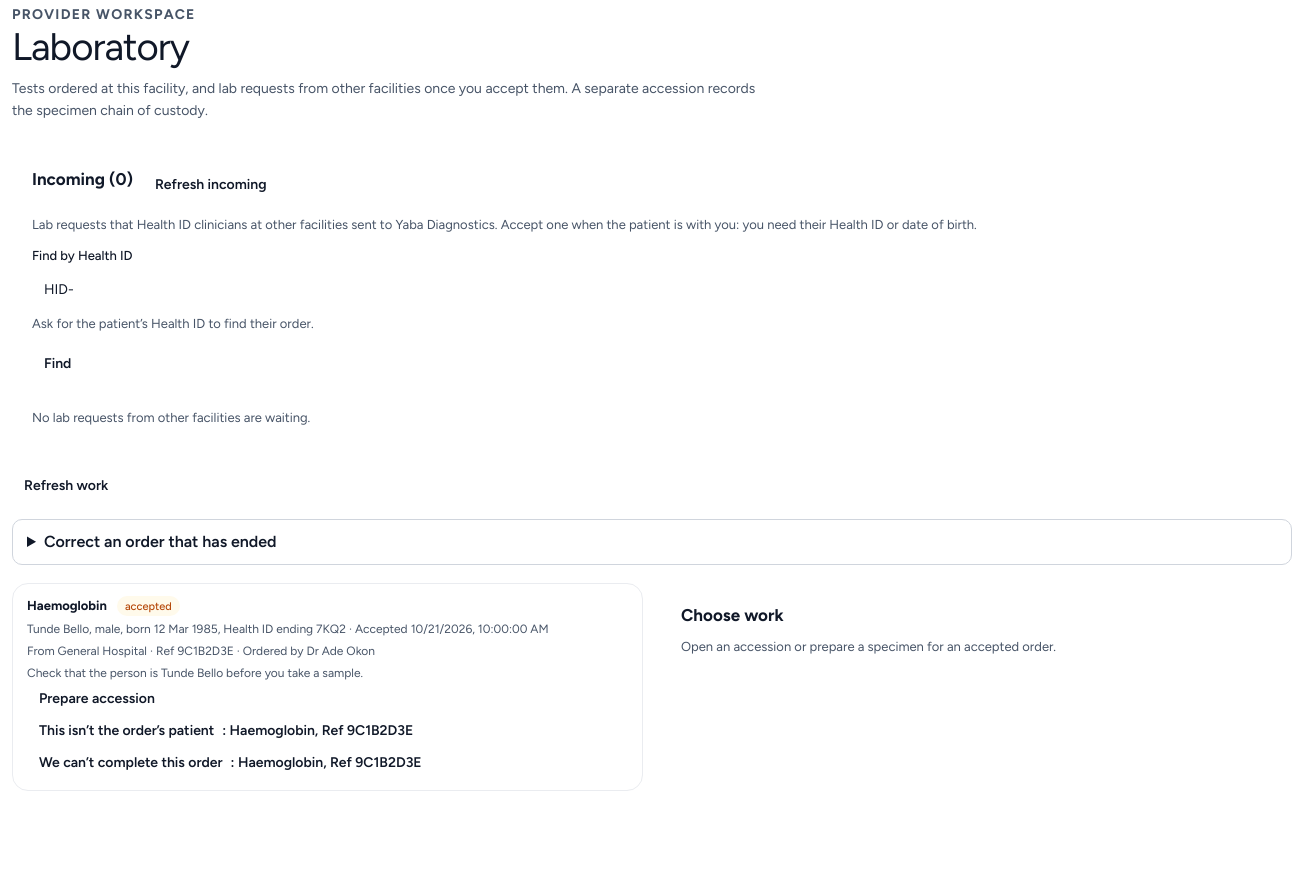
it: the laboratory’s form › needs a reason, the phone statement where required, and the identity statement before it sends anything
Expected: the text "Haemoglobin" is shown, [27,596,107,616]
Click the button "We can’t complete this order : Haemoglobin, Ref 9C1B2D3E".
click(230, 762)  # box [27,746,434,778]
(page scrolled)
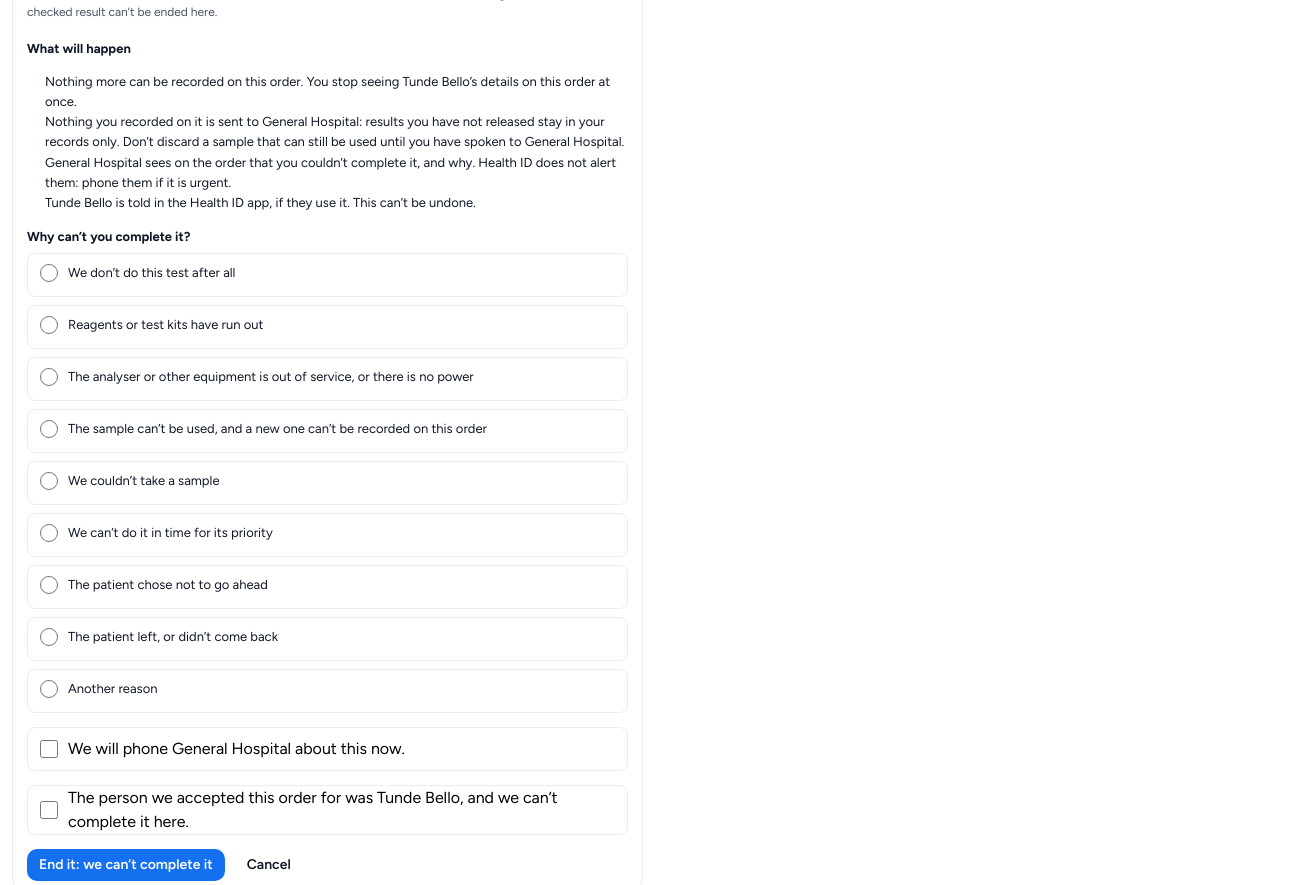
Expected: the checkbox labelled "We will phone General Hospital about this now." is shown, [40,740,58,758]
Click the button "End it: we can’t complete it".
click(126, 864)  # box [27,848,225,880]
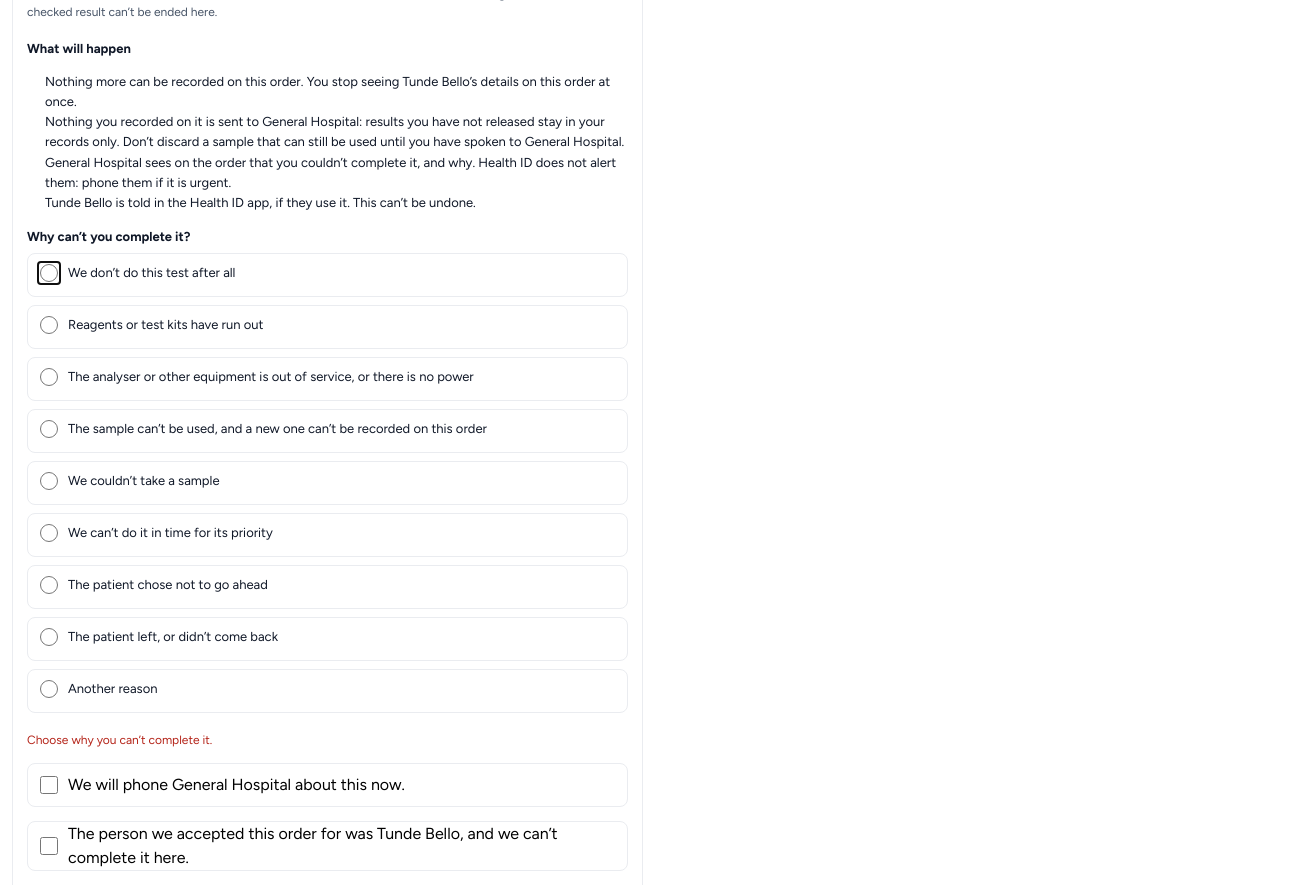
Expected: the text "Choose why you can’t complete it." is shown, [27,732,212,746]
Click the radio button labelled "Another reason".
click(49, 688)  # box [40,680,58,698]
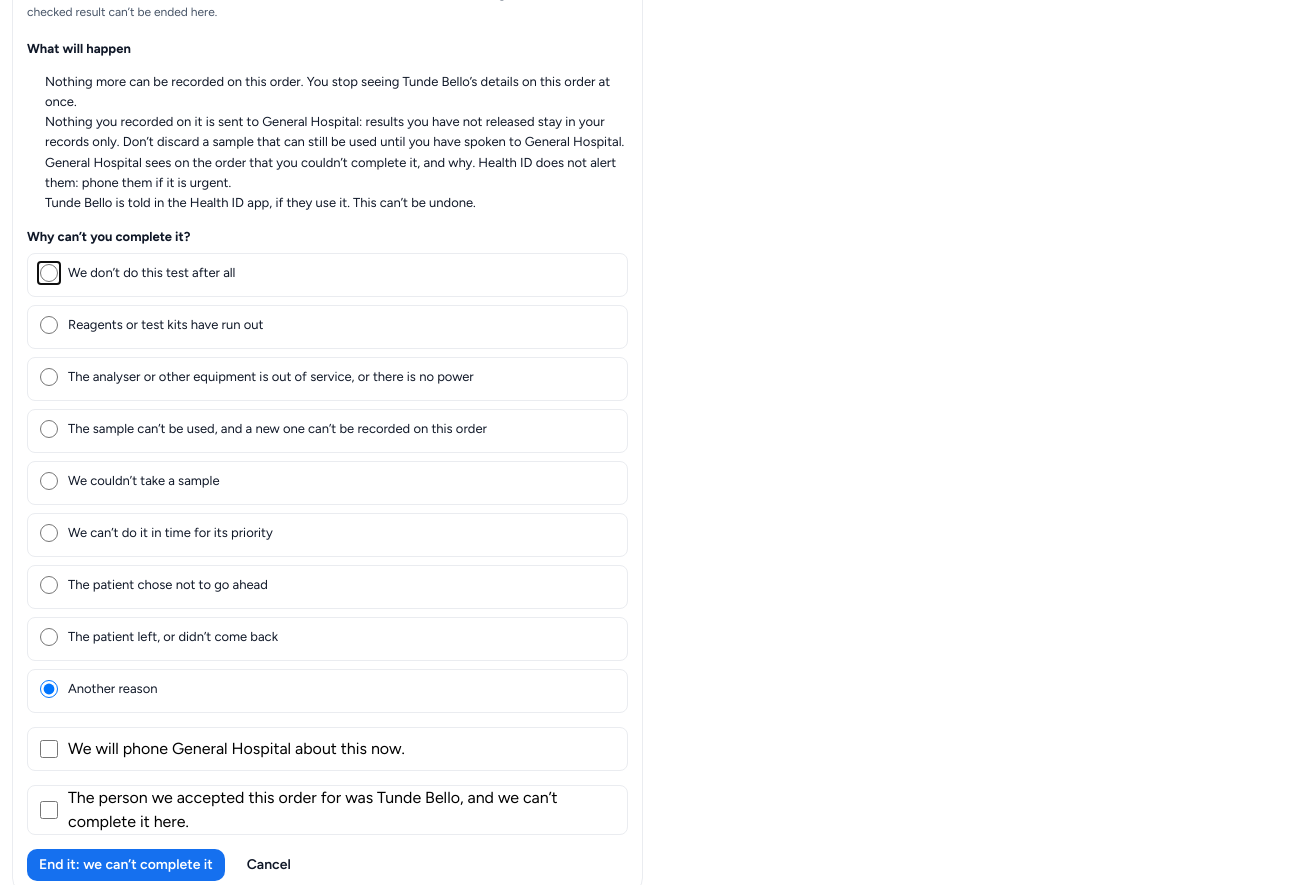
Click the button "End it: we can’t complete it".
click(126, 864)  # box [27,848,225,880]
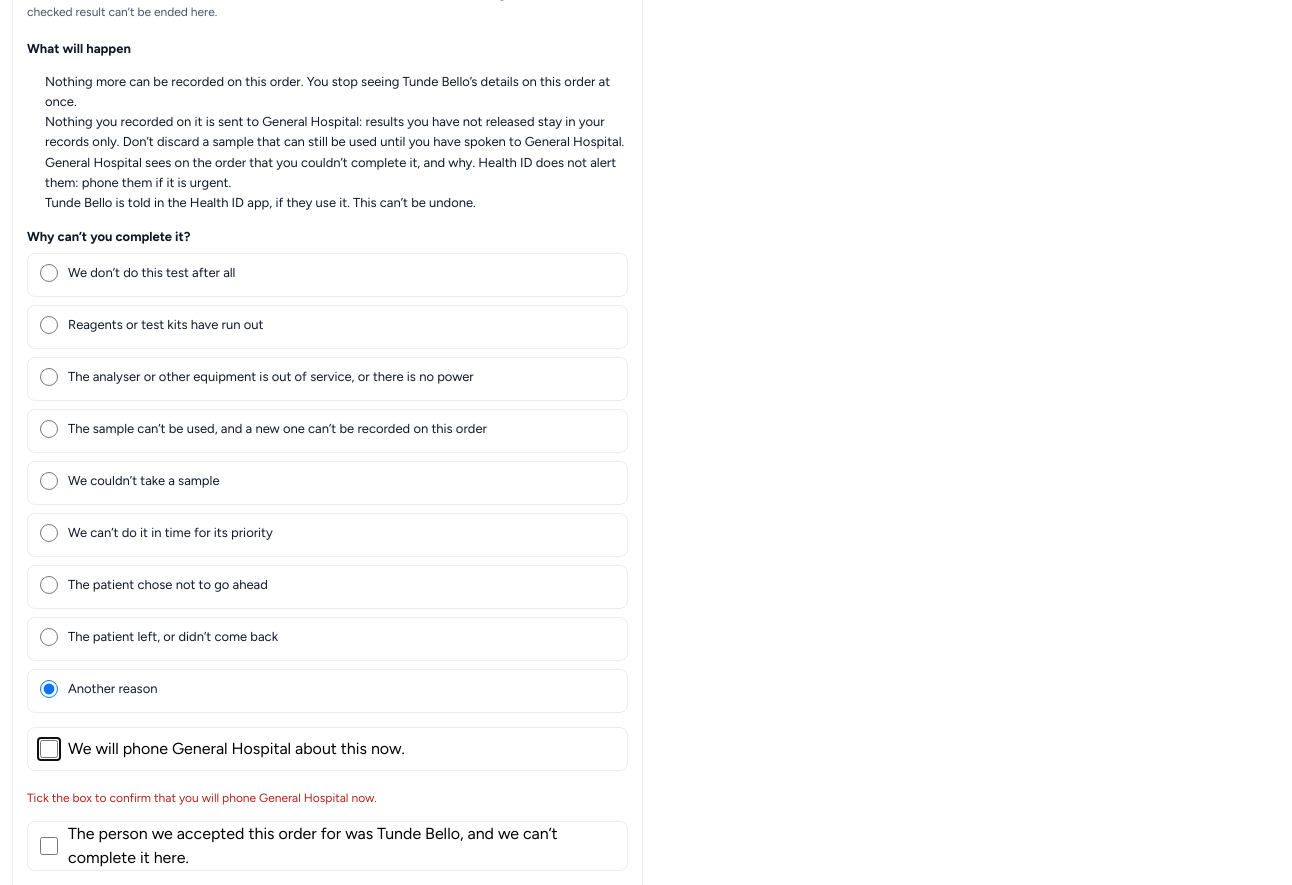
Expected: the text "Tick the box to confirm that you will phone General Hospital now." is shown, [27,790,377,804]
Click the checkbox labelled "We will phone General Hospital about this now.".
click(49, 748)  # box [40,740,58,758]
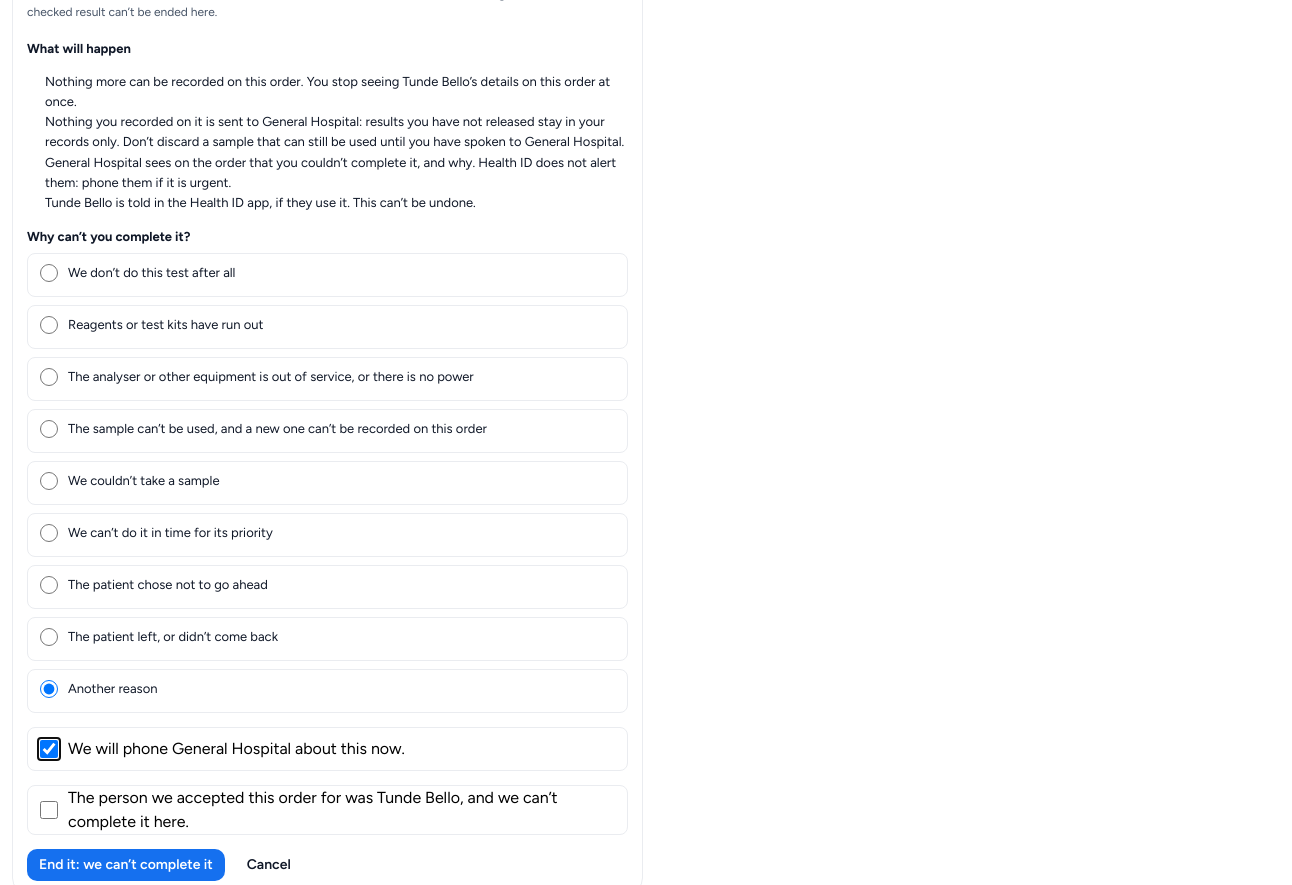
Click the button "End it: we can’t complete it".
click(126, 864)  # box [27,848,225,880]
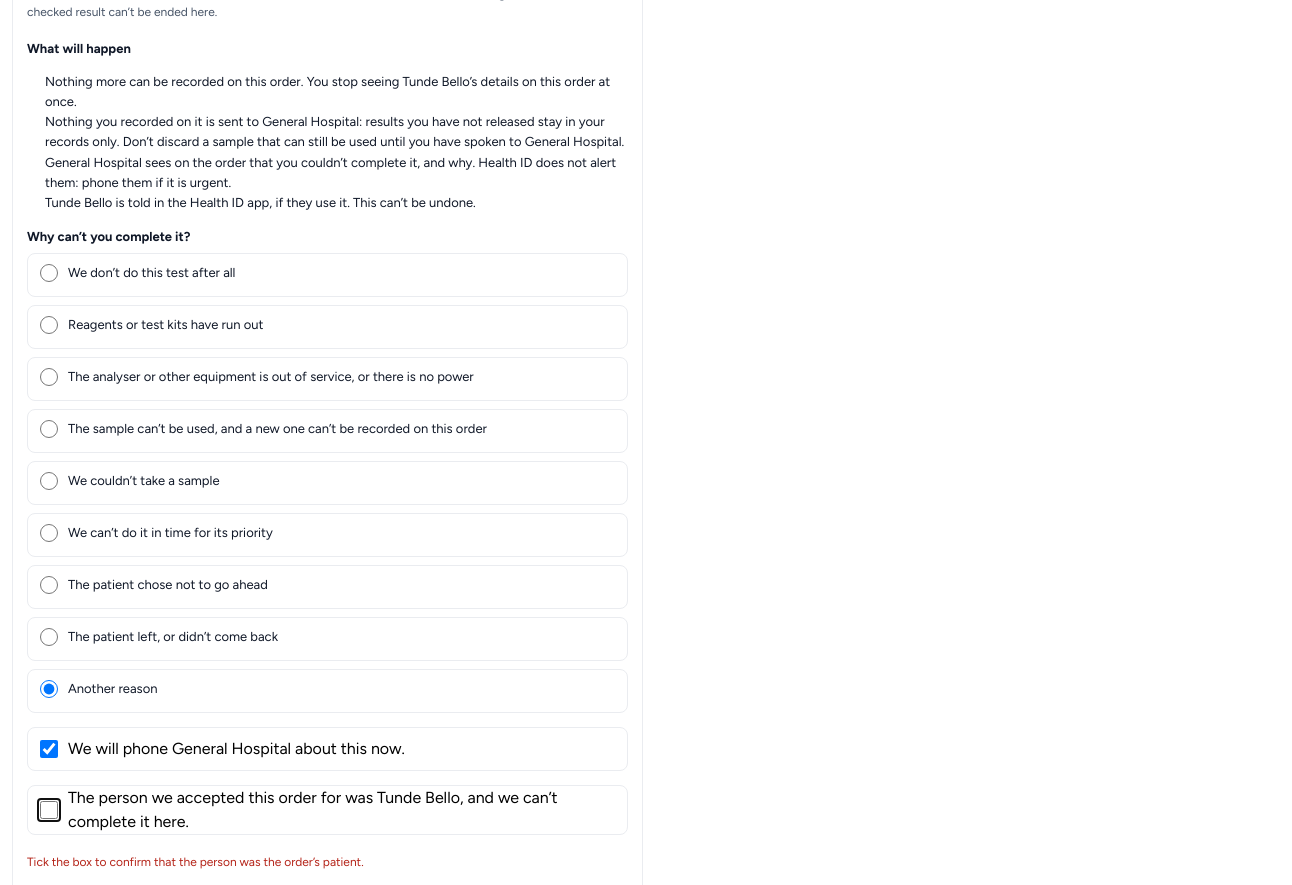
Expected: the text "Tick the box to confirm that the person was the order’s patient." is shown, [27,854,364,868]
